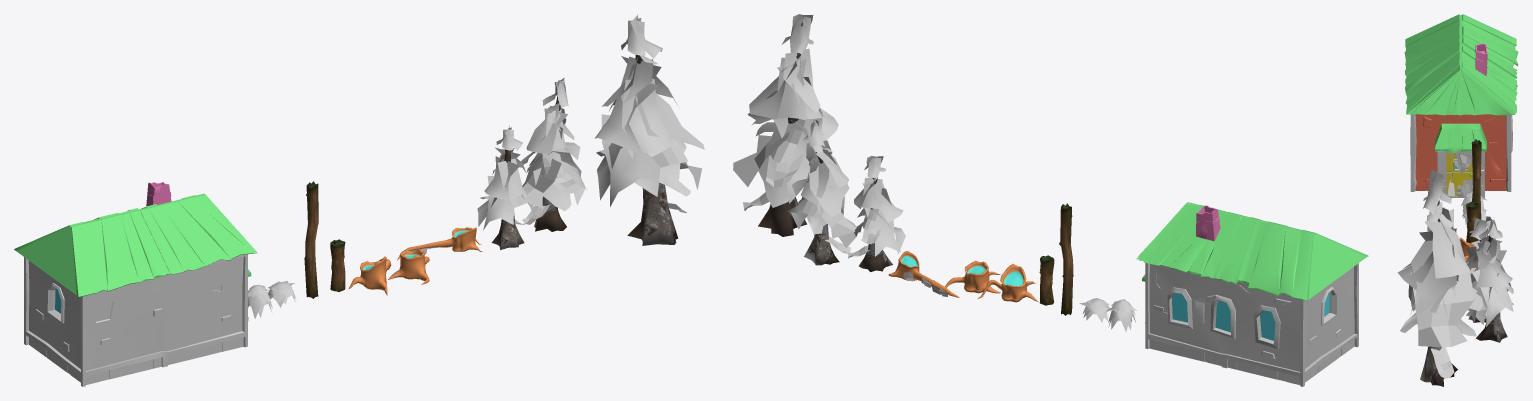
The model's file is alle assets.fbx.
The picture shows the model from 3 angles, left to right: view 1: azimuth 30°, elevation 25°; view 2: azimuth 150°, elevation 25°; view 3: azimuth 270°, elevation 25°; orthographic projection. The views are drawn at different scales.
Parts seen in each view (by area): view 1: Hütte_m, Unbenanntes_Projekt (27).017, Unbenanntes_Projekt (27).022, Baum3_m, Ast1_m, Baumstumpf lang_m, Baumstumpf_1, Baumstumpf_2, Ast2_m; view 2: Hütte_m, Unbenanntes_Projekt (27).017, Unbenanntes_Projekt (27).022, Baum3_m, Ast1_m, Baumstumpf_1, Baumstumpf lang_m, Baumstumpf_2, Ast2_m, Busch1_m; view 3: Hütte_m, Unbenanntes_Projekt (27).017, Unbenanntes_Projekt (27).022, Tür_m, Ast1_m, Baum3_m, Ast2_m, Busch1_m, Baumstumpf_1.
Part boxes in pixels (box(x1,y1,x2,y2)): Hütte_m: box(14, 182, 257, 386); Unbenanntes_Projekt (27).017: box(594, 15, 704, 245); Unbenanntes_Projekt (27).022: box(518, 78, 586, 231); Baum3_m: box(477, 125, 533, 249); Ast1_m: box(304, 181, 318, 298); Baumstumpf lang_m: box(397, 227, 482, 260); Baumstumpf_1: box(349, 256, 391, 295); Baumstumpf_2: box(388, 249, 429, 284); Ast2_m: box(330, 239, 345, 291); Hütte_m: box(1136, 202, 1368, 386); Unbenanntes_Projekt (27).017: box(733, 14, 838, 236); Unbenanntes_Projekt (27).022: box(788, 118, 856, 265); Baum3_m: box(838, 156, 905, 271); Ast1_m: box(1059, 203, 1073, 315); Baumstumpf_1: box(978, 264, 1038, 302); Baumstumpf lang_m: box(888, 251, 959, 297); Baumstumpf_2: box(945, 260, 1000, 293); Ast2_m: box(1039, 255, 1054, 305); Busch1_m: box(1106, 299, 1136, 332); Hütte_m: box(1404, 14, 1518, 198); Unbenanntes_Projekt (27).017: box(1397, 169, 1486, 386); Unbenanntes_Projekt (27).022: box(1463, 216, 1513, 342); Tür_m: box(1446, 153, 1472, 197); Ast1_m: box(1471, 139, 1481, 219); Baum3_m: box(1465, 218, 1486, 322); Ast2_m: box(1466, 201, 1478, 243); Busch1_m: box(1461, 191, 1487, 218); Baumstumpf_1: box(1459, 237, 1475, 256).
Bounding box in the file's own units: 3003 × 1024 × 569.
